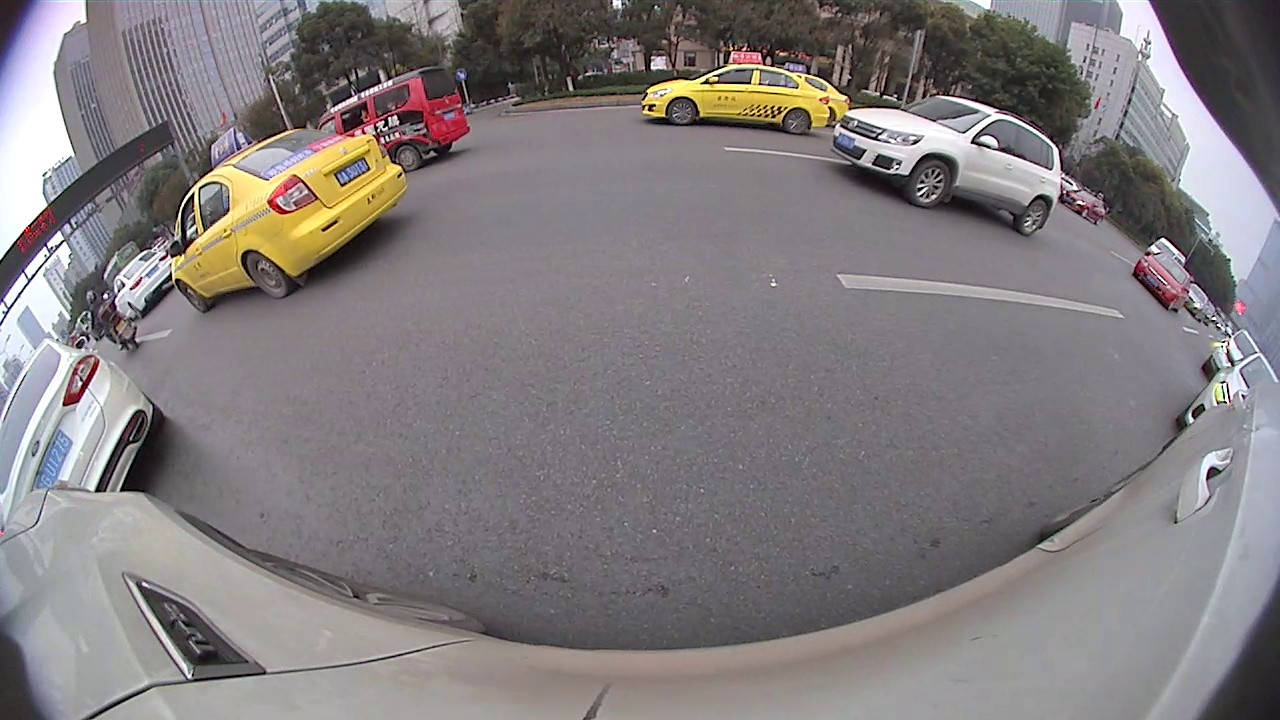car: (172, 128, 408, 313), (833, 96, 1061, 237), (3, 338, 162, 497), (317, 65, 468, 173), (641, 54, 828, 139), (1178, 357, 1273, 431), (113, 253, 173, 316), (1134, 249, 1190, 312)
front: (912, 161, 952, 209), (176, 277, 210, 314), (668, 96, 696, 126)
rear: (244, 250, 292, 298), (1017, 200, 1050, 237), (395, 143, 423, 172), (785, 109, 810, 135)
rider: (86, 291, 139, 348)
